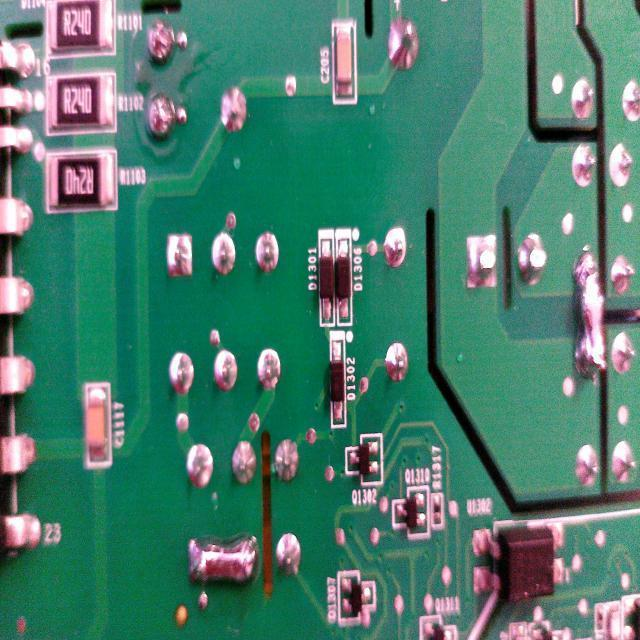Soldering shorted: (571, 238, 610, 394), (185, 532, 260, 596)
